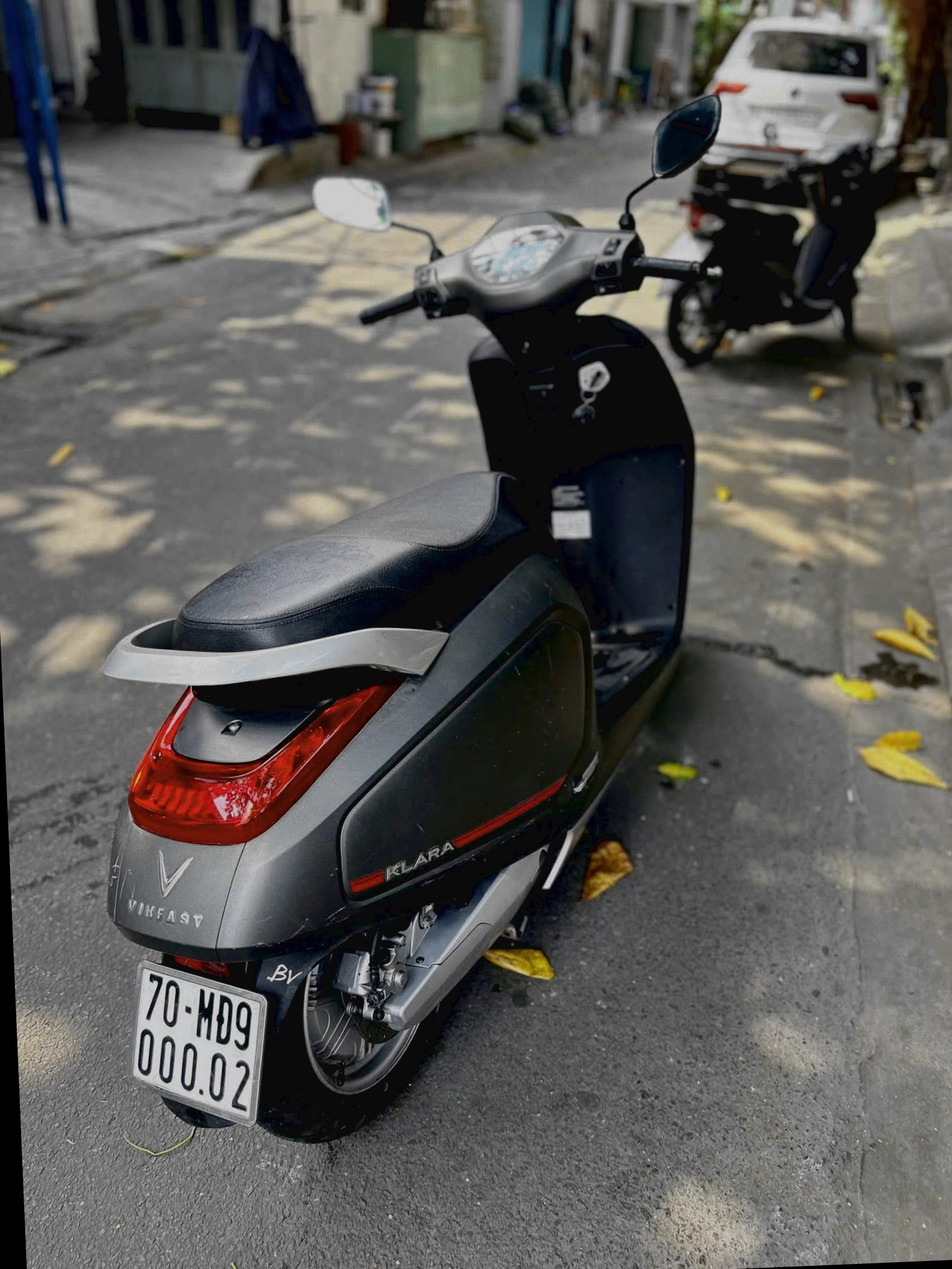Bien-so: (67, 929, 217, 1104)
